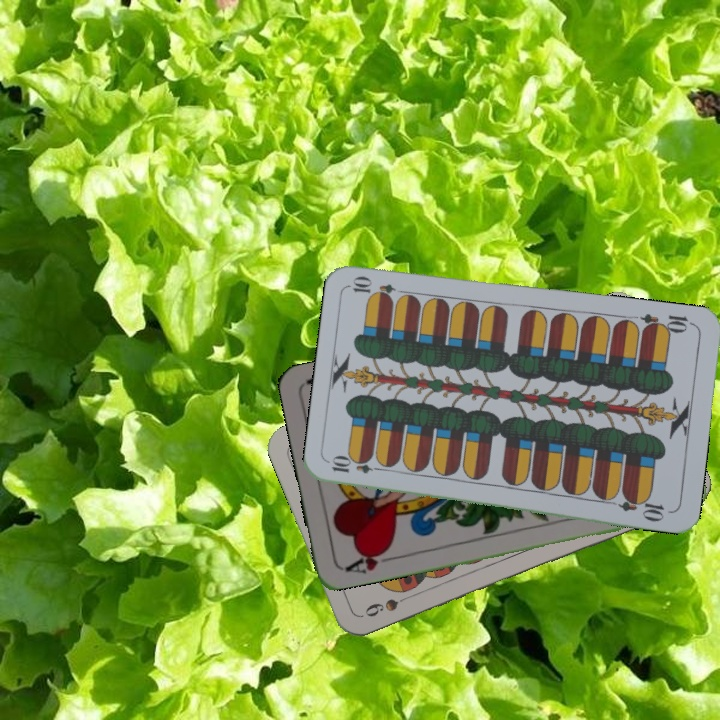E10: (637, 310, 697, 337), (328, 456, 387, 476)
HA: (340, 543, 398, 576)
S9: (360, 591, 416, 620)
